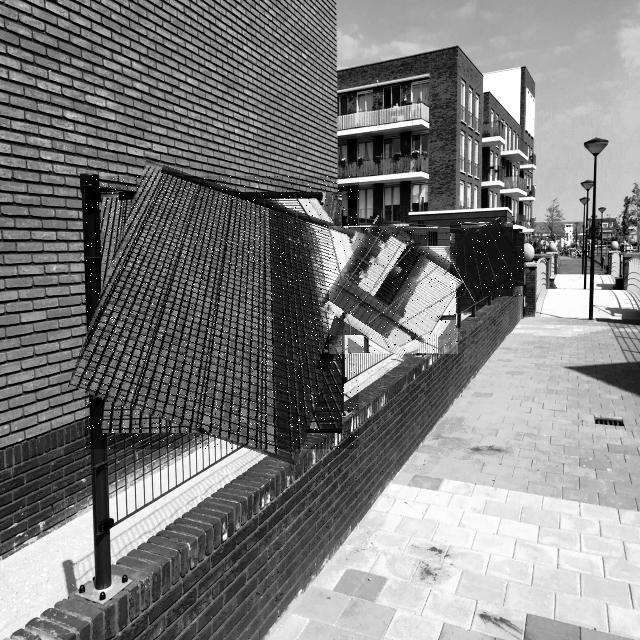fences: (85, 176, 359, 449), (329, 226, 458, 354), (450, 222, 524, 297)
